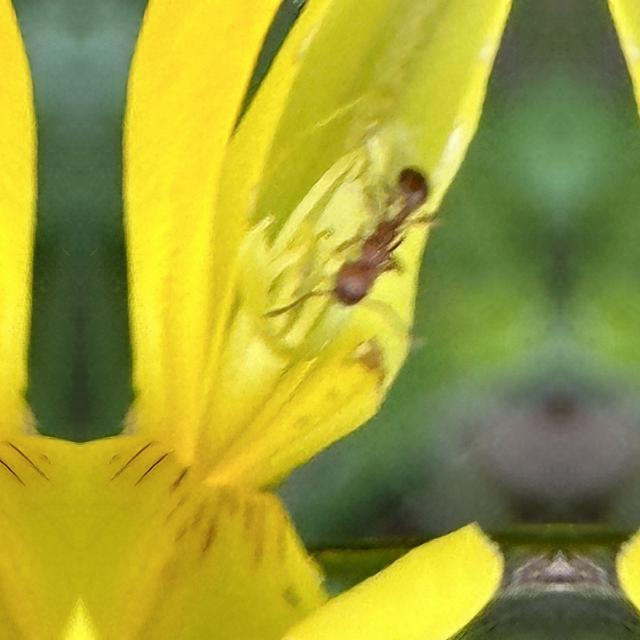Myrmica: (309, 142, 445, 324)
